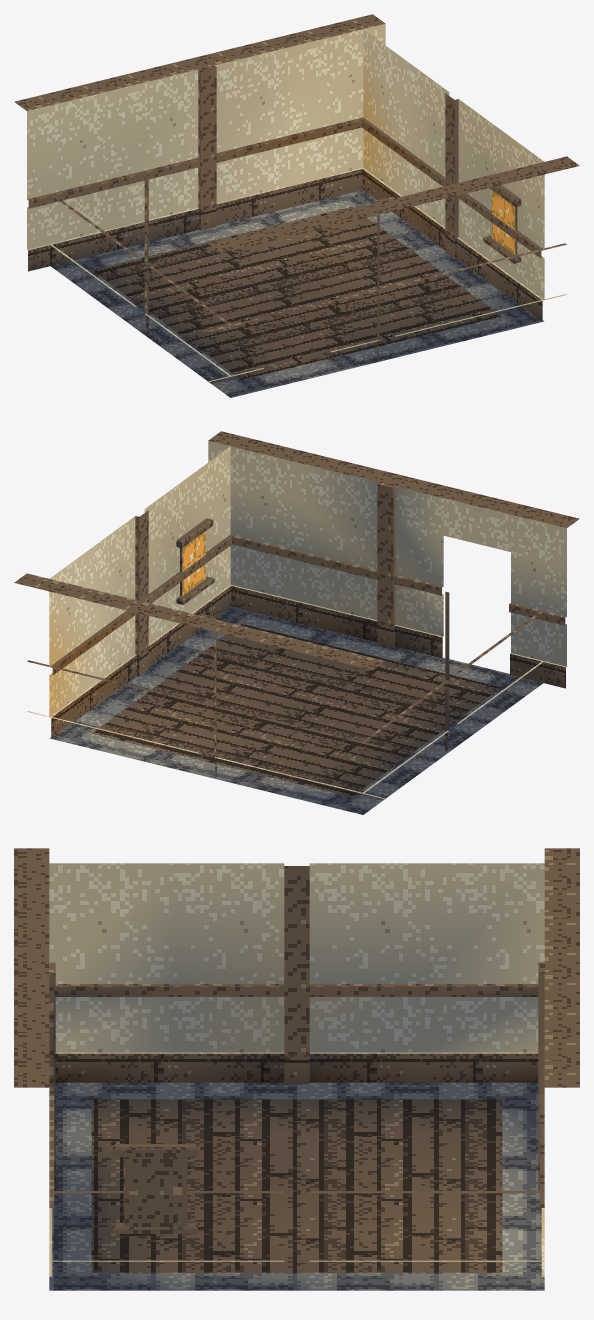
File: vlg.room__cottage.glb
3 renders of one model, top to bottom at view 1: azimuth 30°, elevation 25°; view 2: azimuth 150°, elevation 25°; view 3: azimuth 270°, elevation 25°, orthographic. The views are drawn at different scales.
Parts seen in each view (by area): view 1: kit_shell_walls, kit_shell_floor, kit_fittings; view 2: kit_shell_walls, kit_shell_floor, kit_fittings; view 3: kit_shell_walls, kit_shell_floor, kit_fittings.
Part boxes in pixels (<box>): kit_shell_walls: <box>14,14,579,382</box>; kit_shell_floor: <box>50,190,544,397</box>; kit_fittings: <box>483,185,521,263</box>; kit_shell_walls: <box>14,431,579,799</box>; kit_shell_floor: <box>49,607,543,814</box>; kit_fittings: <box>176,518,214,604</box>; kit_shell_walls: <box>14,848,579,1276</box>; kit_shell_floor: <box>49,1082,544,1290</box>; kit_fittings: <box>113,1144,197,1233</box>.
Size of the model in its own units: 8 by 3.4 by 8.
6 materials, 6 textured.
